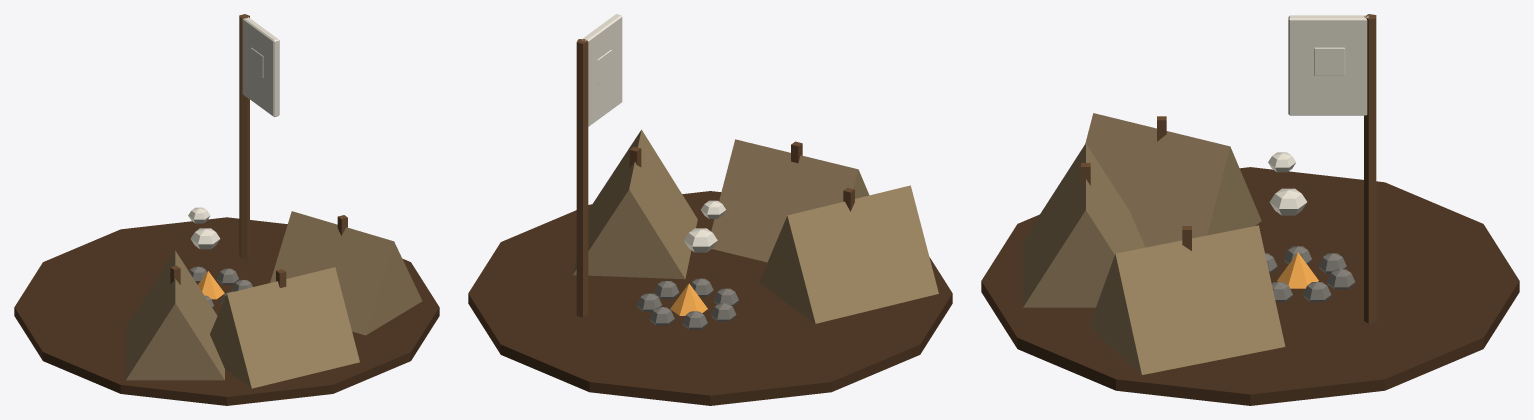
Rendered from world_camp.fbx.
3 renders of one model, left to right at view 1: azimuth 30°, elevation 25°; view 2: azimuth 150°, elevation 25°; view 3: azimuth 270°, elevation 25°, orthographic. The views are drawn at different scales.
Parts seen in each view (by area): view 1: Building, Banner; view 2: Building, Banner; view 3: Building, Banner.
Boxes of the visible parts, box(x1,y1,x2,y2) form: Building: box(14, 14, 439, 405); Banner: box(242, 17, 279, 116); Building: box(468, 39, 952, 405); Banner: box(581, 14, 622, 126); Building: box(981, 14, 1519, 405); Banner: box(1288, 15, 1368, 115).
Bounding box in the file's own units: 1.7 × 1.7 × 1.1.
